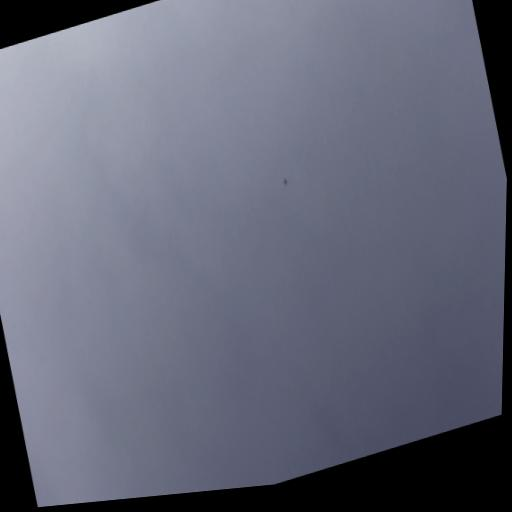drones: (281, 175, 288, 186)
